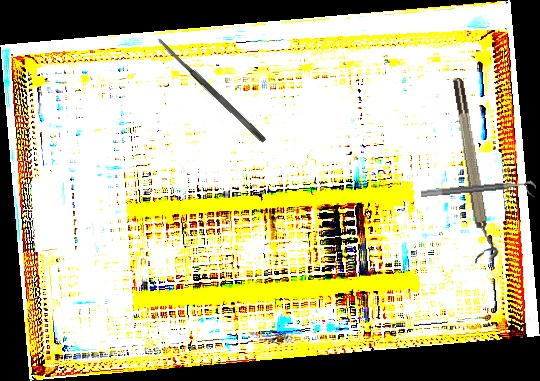Fixation Ring: (449, 76, 500, 264), (420, 180, 537, 207)
Spatula Surgical: (155, 36, 268, 144)
